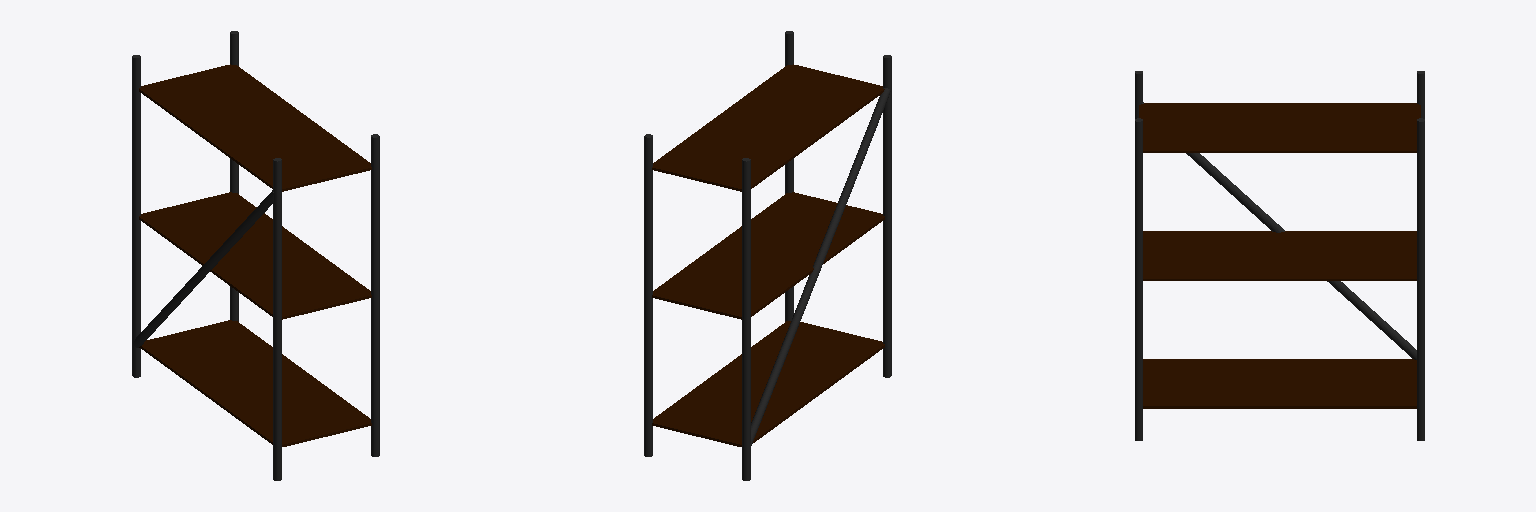
Rendered from shelf.obj.
The picture shows the model from 3 angles: view 1: azimuth 30°, elevation 25°; view 2: azimuth 150°, elevation 25°; view 3: azimuth 270°, elevation 25°; orthographic projection.
Parts seen in each view (by area): view 1: Cube, Cube.003, Cube.002, Cylinder, Cylinder.001, Cylinder.002, Cylinder.004, Cylinder.003; view 2: Cube, Cube.002, Cube.003, Cylinder.004, Cylinder.002, Cylinder.003, Cylinder, Cylinder.001; view 3: Cube, Cube.003, Cube.002, Cylinder.001, Cylinder.003, Cylinder.004.
Part boxes in pixels (left/top/right/bottom): Cube: left=139, top=64, right=371, bottom=191; Cube.003: left=139, top=320, right=371, bottom=446; Cube.002: left=139, top=192, right=371, bottom=319; Cylinder: left=273, top=158, right=281, bottom=480; Cylinder.001: left=371, top=134, right=379, bottom=456; Cylinder.002: left=132, top=55, right=140, bottom=377; Cylinder.004: left=133, top=190, right=273, bottom=347; Cylinder.003: left=230, top=31, right=238, bottom=321; Cube: left=652, top=64, right=884, bottom=191; Cube.002: left=652, top=192, right=884, bottom=319; Cube.003: left=652, top=321, right=884, bottom=446; Cylinder.004: left=750, top=87, right=890, bottom=447; Cylinder.002: left=742, top=158, right=750, bottom=480; Cylinder.003: left=644, top=134, right=652, bottom=456; Cylinder: left=883, top=55, right=891, bottom=377; Cylinder.001: left=785, top=31, right=793, bottom=321; Cube: left=1139, top=103, right=1420, bottom=152; Cube.003: left=1143, top=359, right=1416, bottom=408; Cube.002: left=1143, top=231, right=1416, bottom=280; Cylinder.001: left=1135, top=118, right=1142, bottom=440; Cylinder.003: left=1417, top=118, right=1424, bottom=440; Cylinder.004: left=1142, top=102, right=1416, bottom=359.
Bounding box in the file's own units: 0.86 × 2.5 × 2.06.